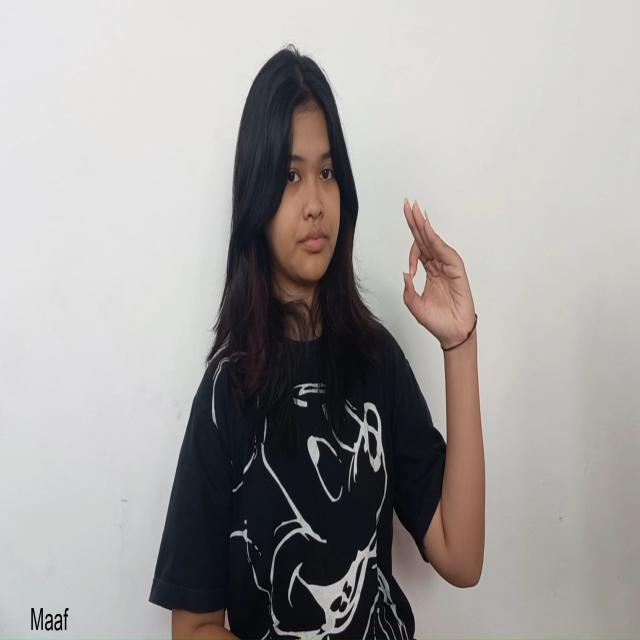Maaf -BISINDO-: (401, 196, 480, 362)
